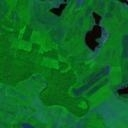alloviz: (83, 10, 103, 51), (49, 2, 67, 16), (116, 86, 128, 96)
